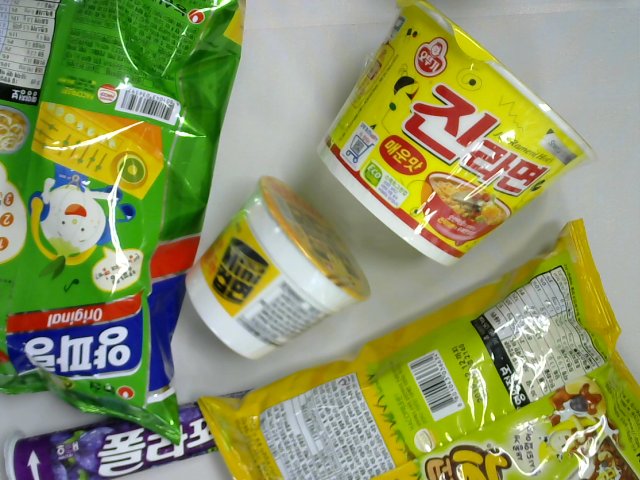Banana_Kick: (194, 220, 640, 480)
Hejangmini: (180, 176, 372, 365)
Jinlamyeon_Hot_Taste_Large_Cup: (315, 1, 597, 271)
Oninon_Ring: (1, 1, 246, 451)
Polapo_Grape: (3, 389, 256, 480)
